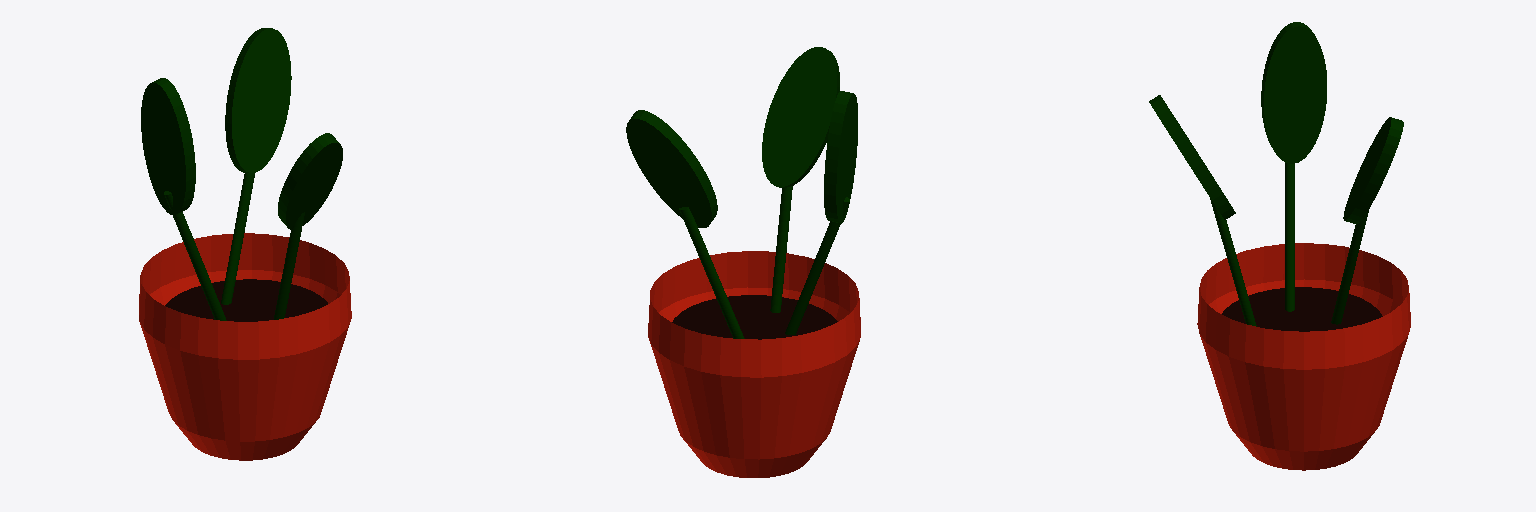
The model's file is plant.obj.
3 views of the same model, side by side, from view 1: azimuth 30°, elevation 25°; view 2: azimuth 150°, elevation 25°; view 3: azimuth 270°, elevation 25° (orthographic).
Visible parts, largest first — view 1: Cylinder.012_Material.006, Cylinder.012_Material.001, Cylinder.012_Material.007, Cylinder.012_Material, Cylinder.012_Material.005, Cylinder.012_Material.003; view 2: Cylinder.012_Material.006, Cylinder.012_Material.001, Cylinder.012_Material.007, Cylinder.012_Material, Cylinder.012_Material.005, Cylinder.012_Material.003; view 3: Cylinder.012_Material.006, Cylinder.012_Material.001, Cylinder.012_Material.007, Cylinder.012_Material.005, Cylinder.012_Material.003, Cylinder.012_Material.
Part boxes in pixels (left/top/right/bottom): Cylinder.012_Material.006: left=139, top=233, right=351, bottom=460; Cylinder.012_Material.001: left=141, top=28, right=342, bottom=229; Cylinder.012_Material.007: left=165, top=279, right=327, bottom=321; Cylinder.012_Material: left=221, top=173, right=254, bottom=304; Cylinder.012_Material.005: left=164, top=191, right=226, bottom=320; Cylinder.012_Material.003: left=274, top=212, right=304, bottom=319; Cylinder.012_Material.006: left=648, top=251, right=860, bottom=477; Cylinder.012_Material.001: left=626, top=47, right=857, bottom=227; Cylinder.012_Material.007: left=672, top=295, right=837, bottom=339; Cylinder.012_Material: left=679, top=207, right=744, bottom=338; Cylinder.012_Material.005: left=785, top=197, right=849, bottom=334; Cylinder.012_Material.003: left=770, top=186, right=792, bottom=312; Cylinder.012_Material.006: left=1197, top=243, right=1410, bottom=470; Cylinder.012_Material.001: left=1149, top=22, right=1403, bottom=224; Cylinder.012_Material.007: left=1222, top=287, right=1382, bottom=331; Cylinder.012_Material.005: left=1285, top=163, right=1294, bottom=311; Cylinder.012_Material.003: left=1210, top=198, right=1256, bottom=326; Cylinder.012_Material: left=1331, top=210, right=1368, bottom=324.
Bounding box in the file's own units: 2.6 × 5.05 × 3.15.